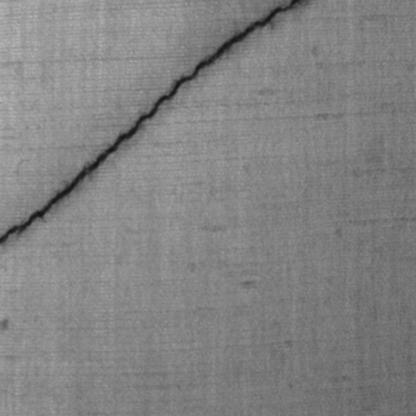objects: (0, 0, 312, 250)
